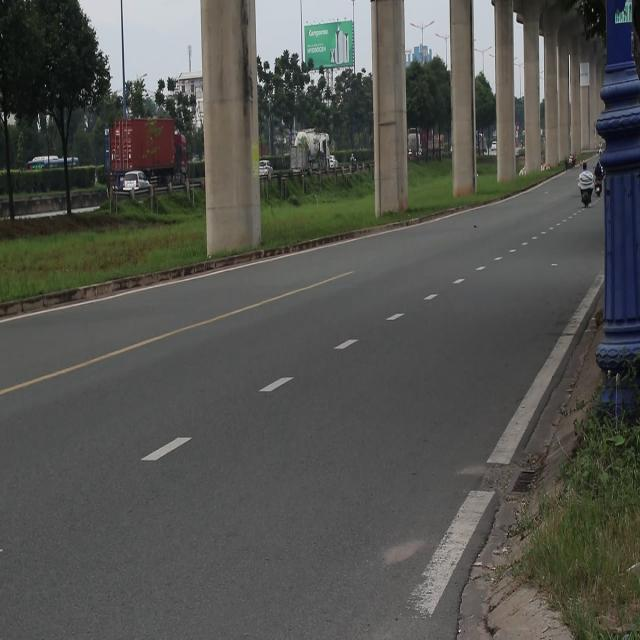car: (29, 156, 80, 172), (119, 170, 151, 190), (259, 160, 274, 178)
motorbike: (594, 172, 608, 204), (580, 188, 595, 215)
truck: (108, 118, 190, 194), (289, 140, 315, 188)
